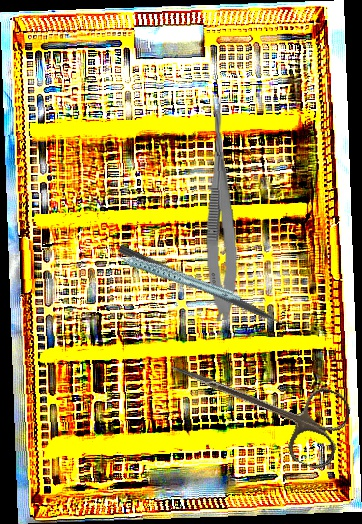Handpiece: (106, 220, 243, 327)
Iris Scissors: (155, 333, 356, 474)
Micro Scissor: (197, 96, 242, 322)
Pusher: (116, 243, 301, 338)
